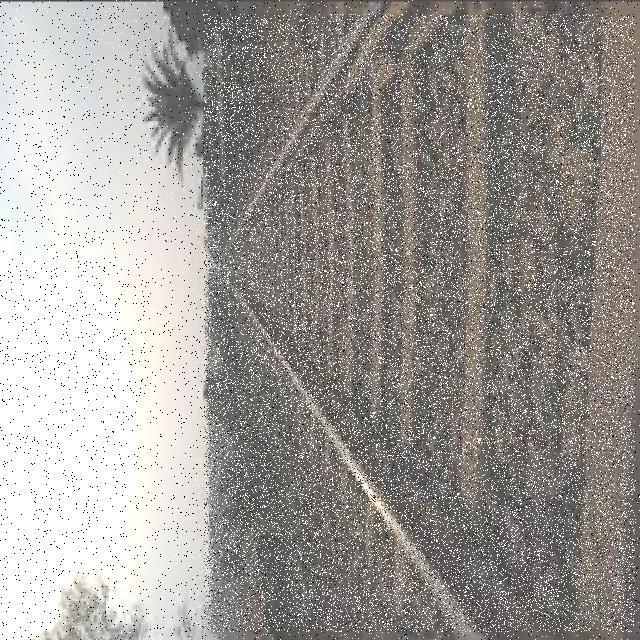rail: (204, 14, 635, 632)
